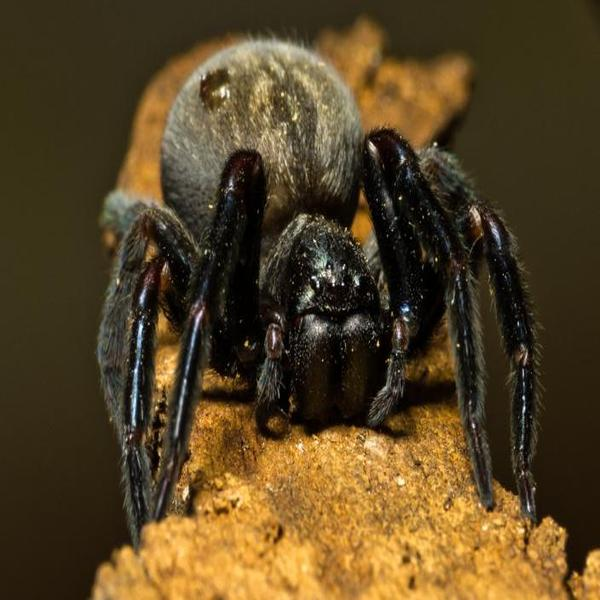Funnel Web Spider: (101, 35, 540, 528)
